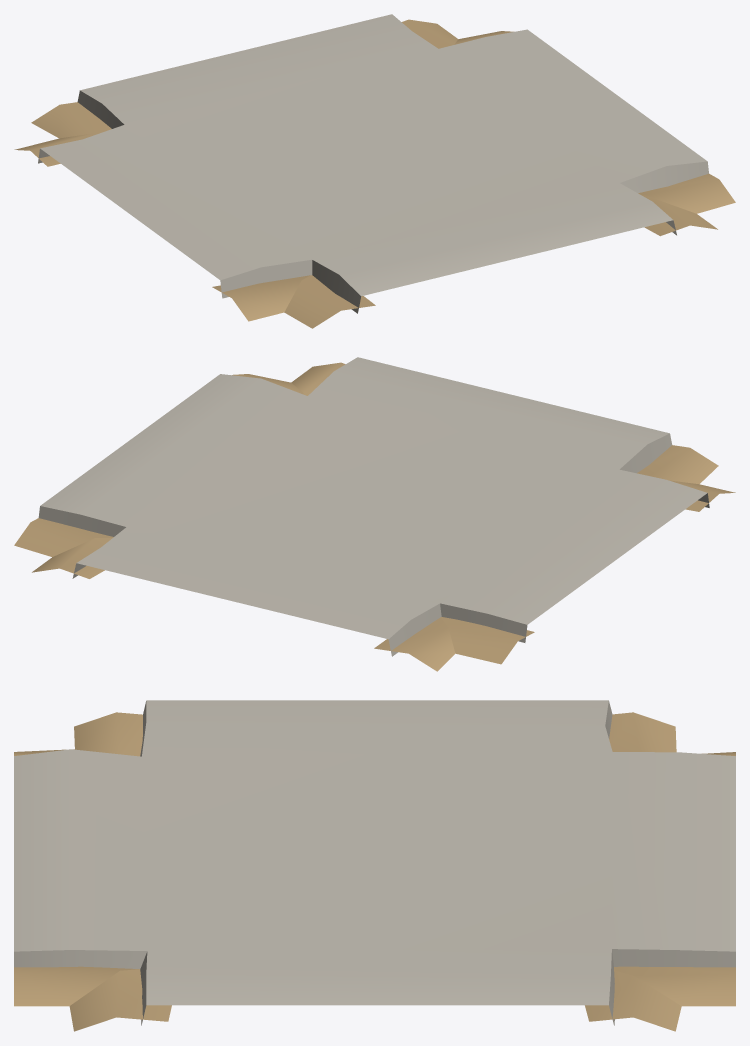
File: Building_mode_L2_Roadcross002.fbx
The picture shows the model from 3 angles, top to bottom: view 1: azimuth 30°, elevation 25°; view 2: azimuth 150°, elevation 25°; view 3: azimuth 270°, elevation 25°; orthographic projection. The views are drawn at different scales.
Parts seen in each view (by area): view 1: Building_mode_L2_Roadcross002; view 2: Building_mode_L2_Roadcross002; view 3: Building_mode_L2_Roadcross002.
Boxes of the visible parts, x1,y1,x2,y2 form: Building_mode_L2_Roadcross002: (14, 14, 735, 328); Building_mode_L2_Roadcross002: (14, 357, 735, 671); Building_mode_L2_Roadcross002: (14, 700, 735, 1031).
Size of the model in its own units: 3 by 0.1528 by 3.
